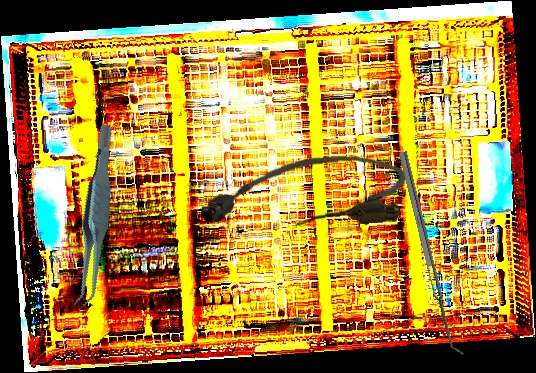Cannula: (196, 150, 410, 236)
Spatula Surgical: (398, 149, 466, 358)
Tissue Forceps: (38, 123, 152, 311)
